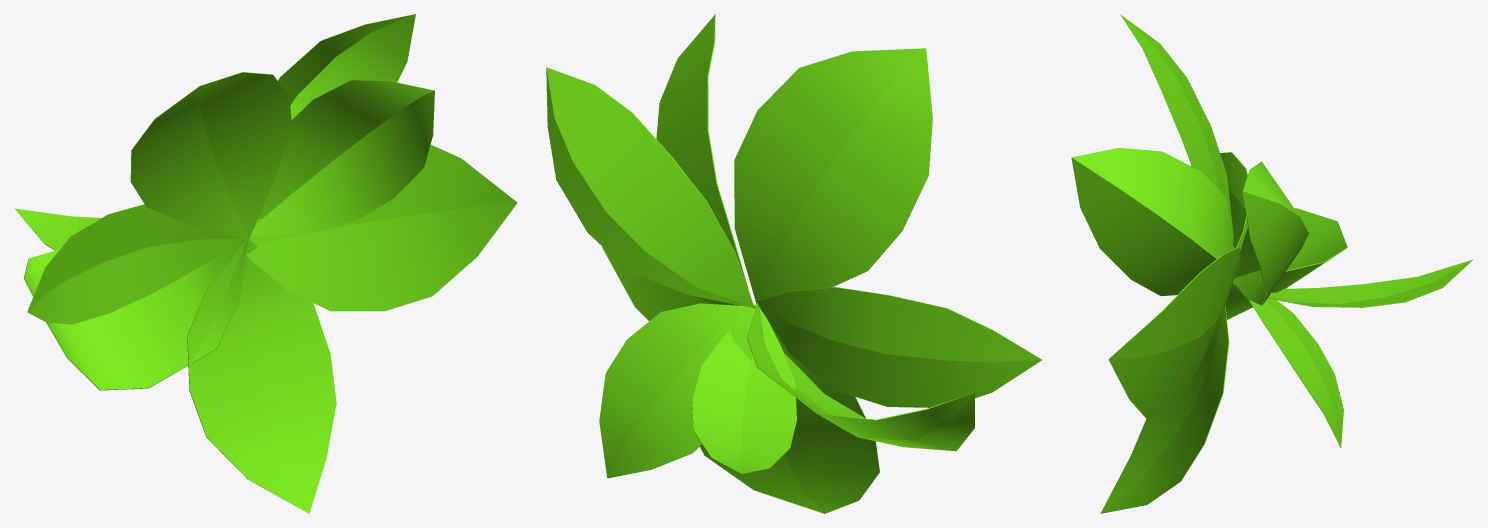
Rendered from leaves.fbx.
3 views of the same model, side by side, from view 1: azimuth 30°, elevation 25°; view 2: azimuth 150°, elevation 25°; view 3: azimuth 270°, elevation 25° (orthographic). The views are drawn at different scales.
Parts seen in each view (by area): view 1: Plane.005, Plane, Plane.006, Plane.008, Plane.007, Plane.003, Plane.002, Plane.001; view 2: Plane.006, Plane.002, Plane.007, Plane.004, Plane.001, Plane.005, Plane.003, Plane.008, Plane; view 3: Plane.008, Plane, Plane.005, Plane.002, Plane.006, Plane.004, Plane.001, Plane.003, Plane.007.
Part boxes in pixels (x1,y1,x2,y2): Plane.005: (187,238,336,513); Plane: (239,145,517,311); Plane.006: (130,72,292,240); Plane.008: (251,80,434,235); Plane.007: (27,204,244,324); Plane.003: (23,237,248,390); Plane.002: (278,14,415,119); Plane.001: (15,208,248,250); Plane.006: (734,48,932,301); Plane.002: (546,67,754,308); Plane.007: (756,287,1042,407); Plane.004: (599,303,753,478); Plane.001: (692,303,796,473); Plane.005: (699,323,879,513); Plane.003: (747,303,974,451); Plane.008: (656,14,753,308); Plane: (602,246,755,321); Plane.008: (1071,148,1233,295); Plane: (1108,247,1240,418); Plane.005: (1100,306,1229,513); Plane.002: (1233,161,1308,305); Plane.006: (1120,14,1232,227); Plane.004: (1233,280,1343,448); Plane.001: (1232,259,1473,307); Plane.003: (1225,208,1347,319); Plane.007: (1191,152,1247,250).
Size of the model in its own units: 3.44 by 2.63 by 3.25.
